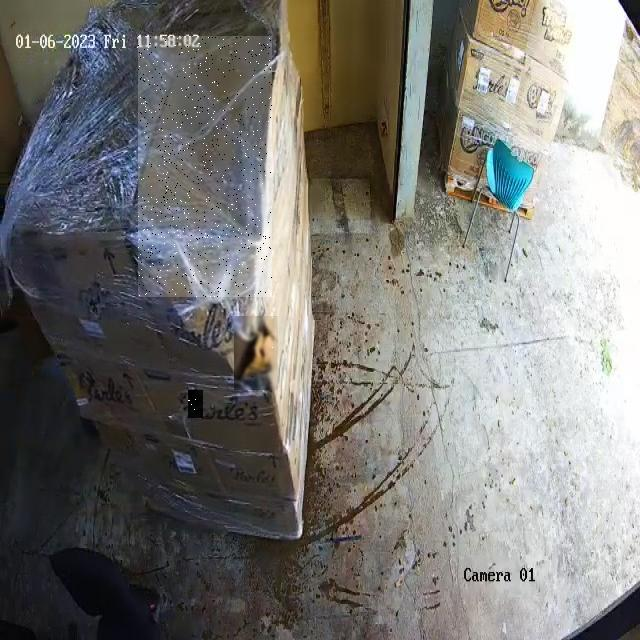leakage: (235, 316, 277, 390), (188, 391, 201, 418)
squeeze: (138, 38, 272, 297)
